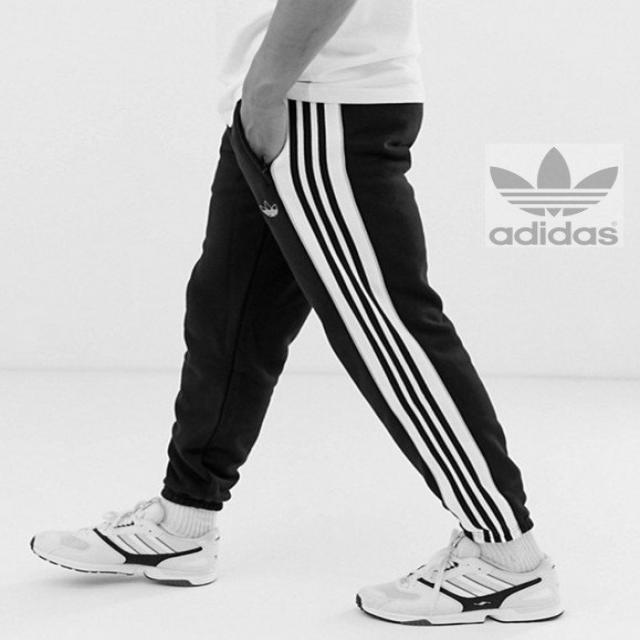Adidas: (481, 139, 626, 223), (245, 191, 288, 220)
